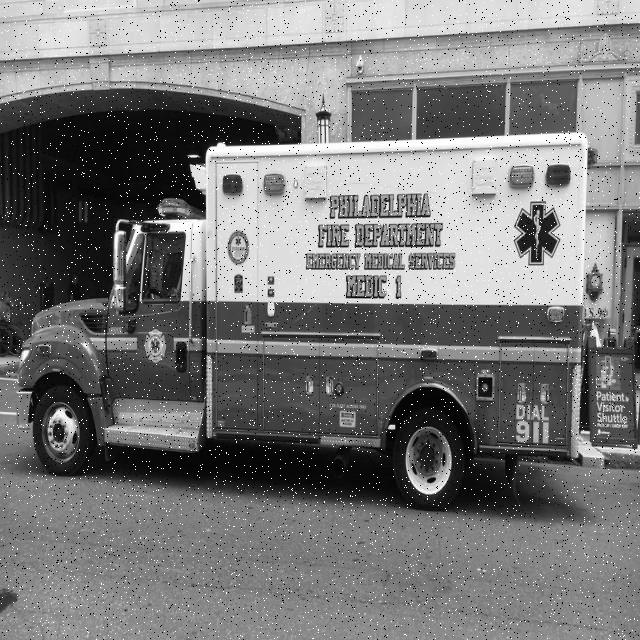Ambulance: (16, 133, 605, 513)
